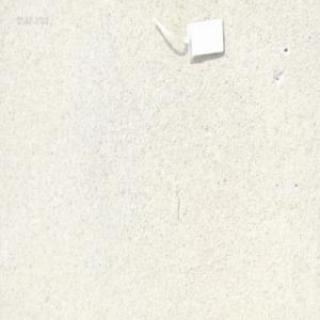LuggageTagtrack_idkeyframe: (147, 9, 225, 59)
